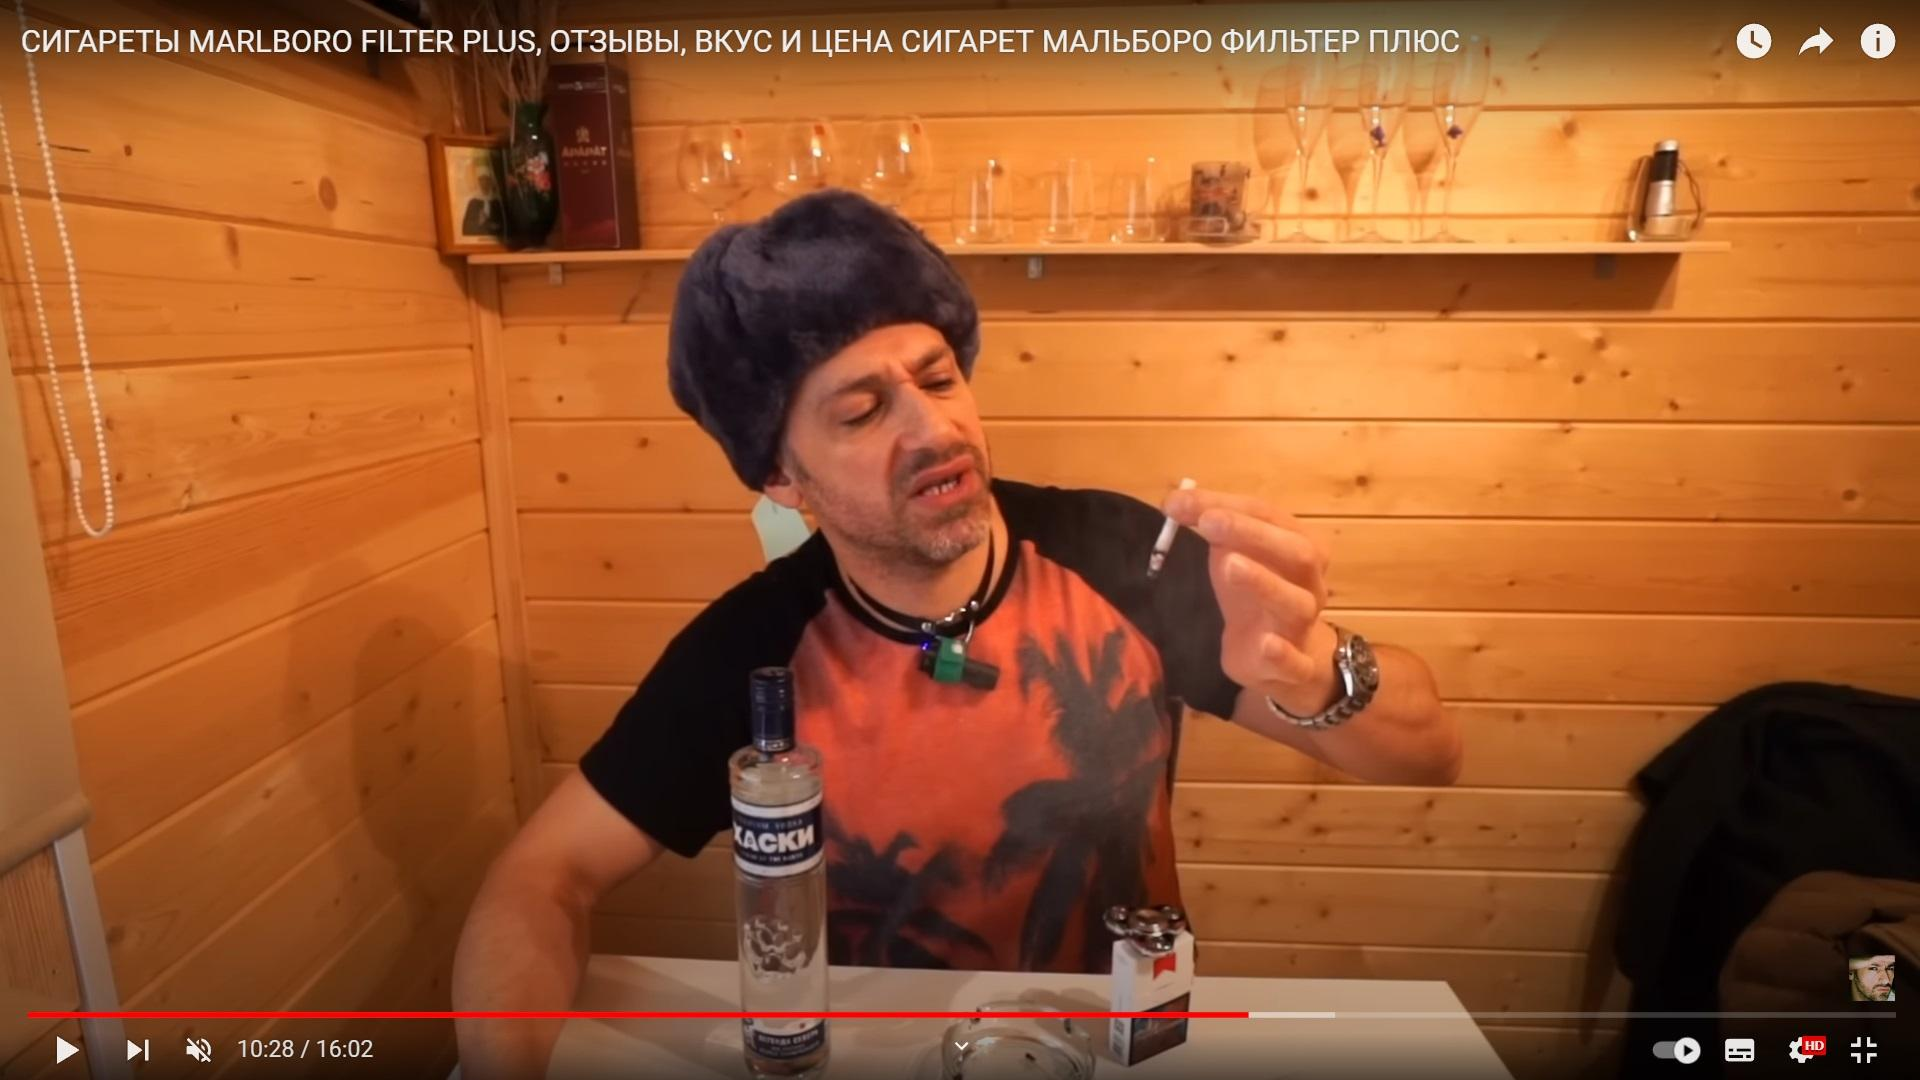cigarette: (1147, 479, 1197, 579)
